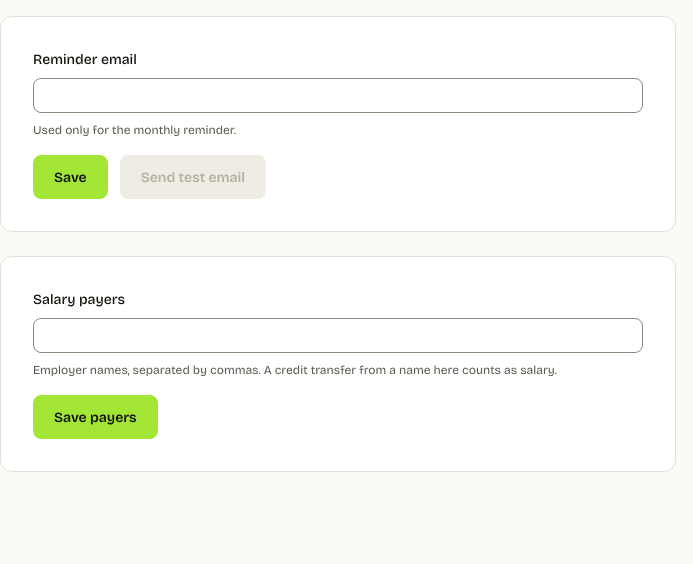
Test: SettingsForm › surfaces the server error for an invalid address
Type "not-an-email" into the field labelled "Reminder email" at [338, 96], box x1=33 y1=78 x2=643 y2=113
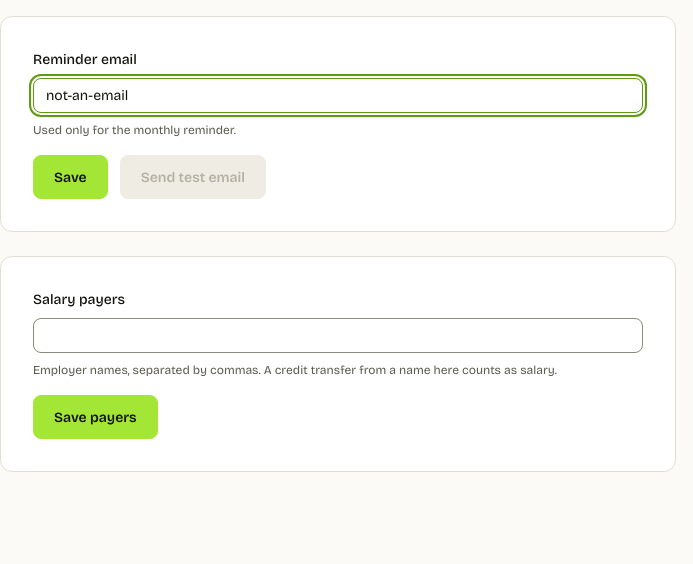
Click the button "Save" at [70, 177], box x1=33 y1=155 x2=108 y2=199
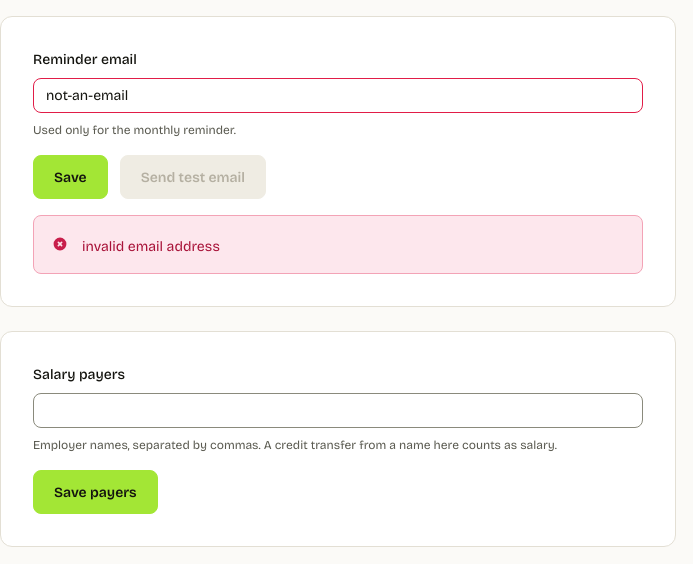
Now the text "invalid email address" is shown, box x1=82 y1=238 x2=220 y2=255
